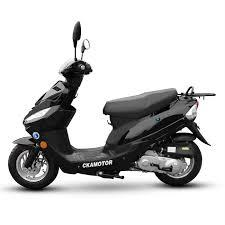motorcycle: (5, 21, 215, 189)
